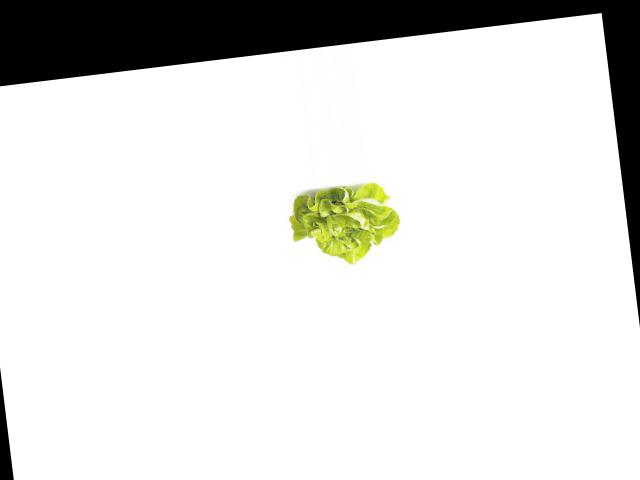lettuce: (284, 178, 407, 270)
